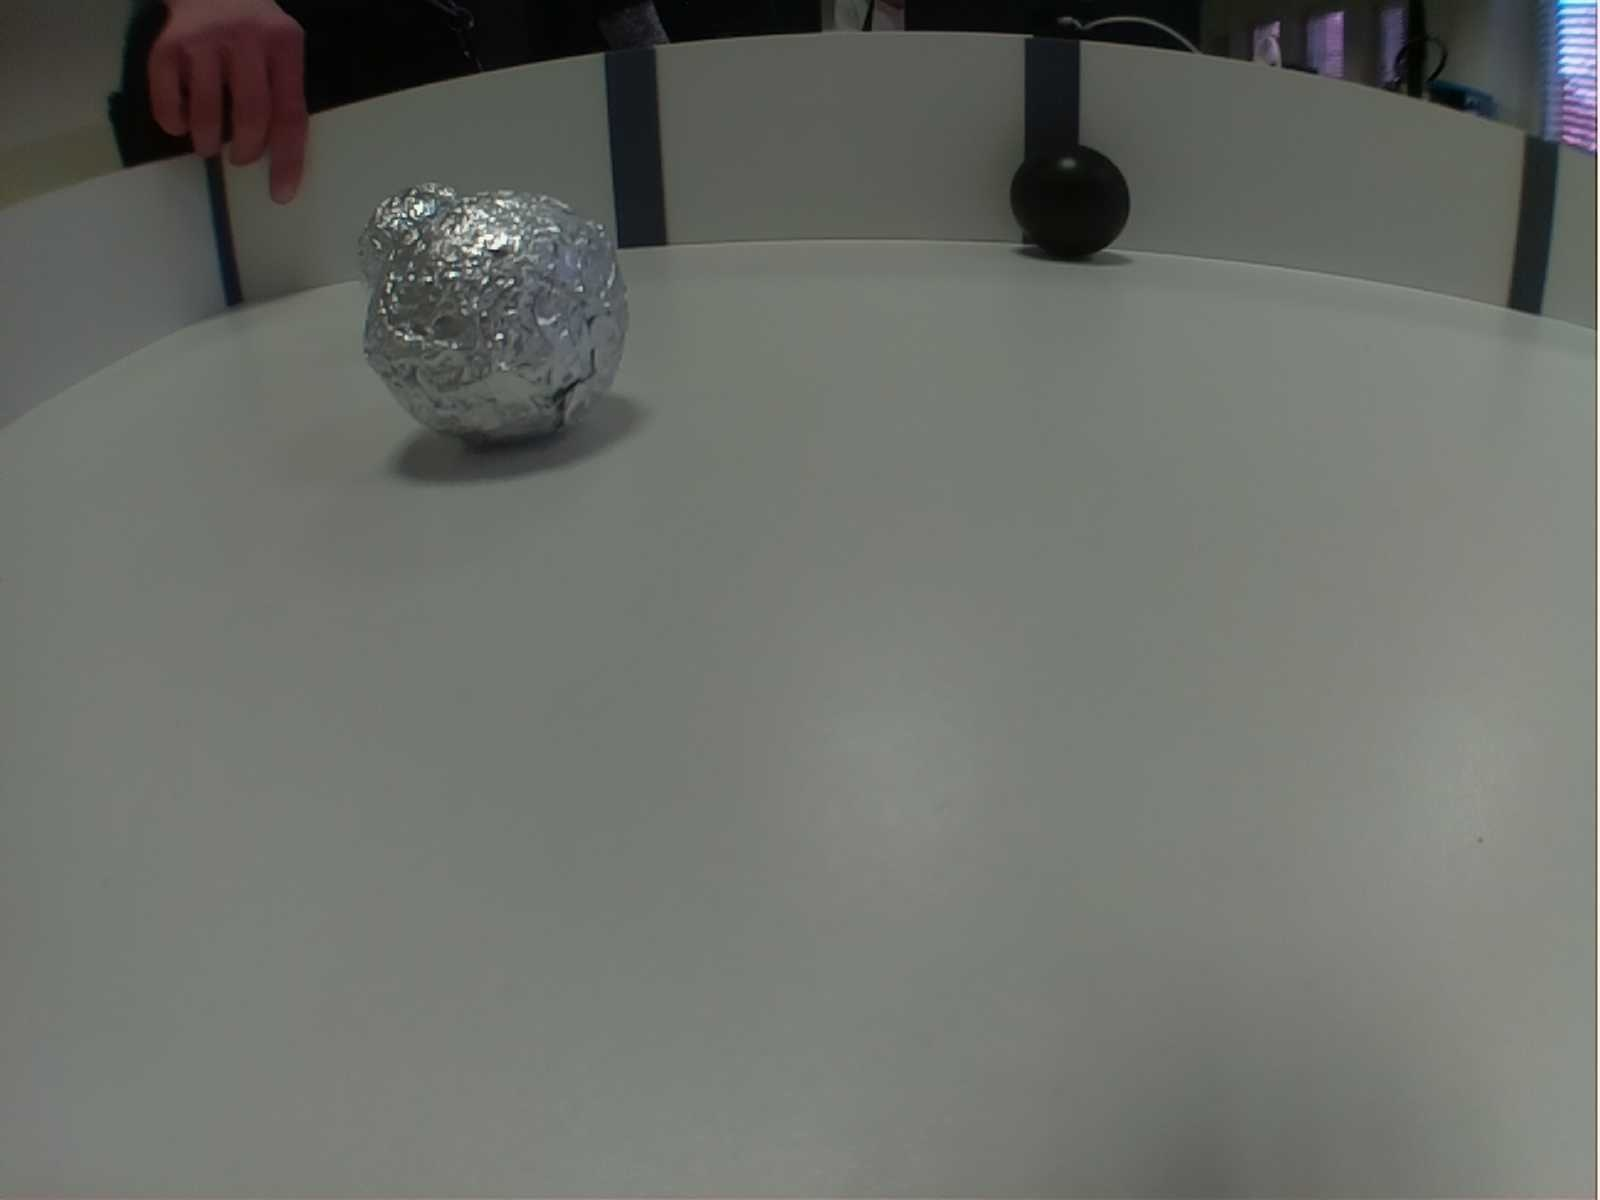bianca: (359, 192, 639, 461), (357, 175, 465, 286)
nera: (998, 145, 1141, 268)
